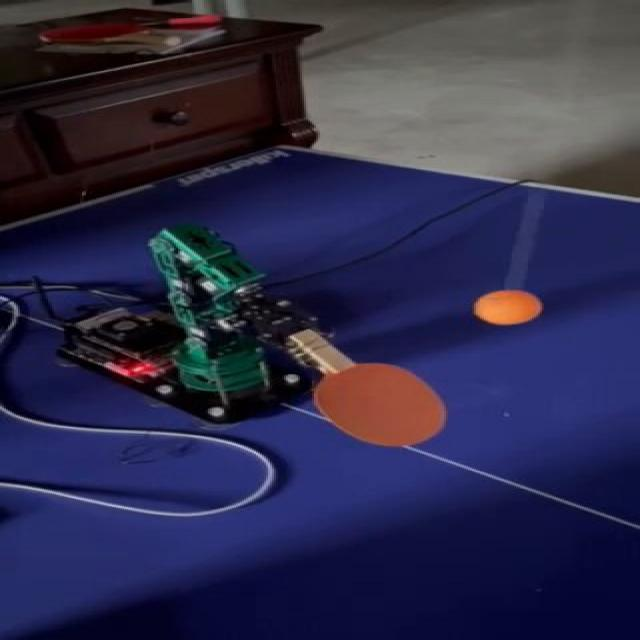ping-pong-ball: (476, 290, 540, 326)
